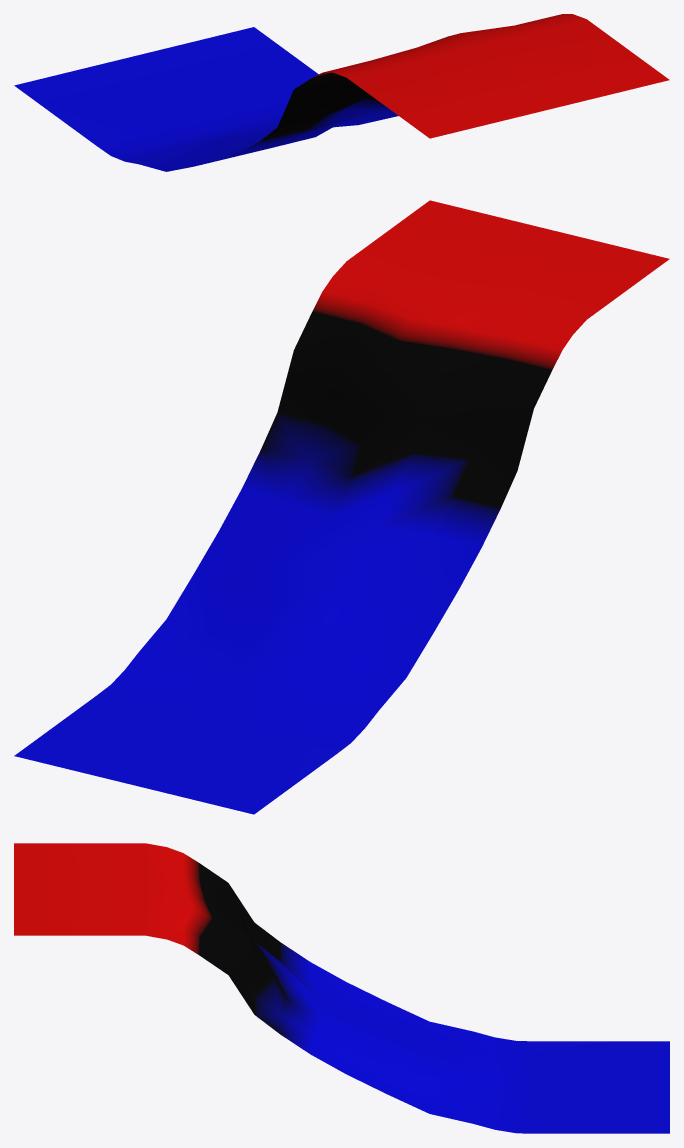
Rendered from RiverBank00B Background.fbx.
The picture shows the model from 3 angles, top to bottom: view 1: azimuth 30°, elevation 25°; view 2: azimuth 150°, elevation 25°; view 3: azimuth 270°, elevation 25°; orthographic projection. The views are drawn at different scales.
Visible parts, largest first — view 1: RiverBank00B Background; view 2: RiverBank00B Background; view 3: RiverBank00B Background.
Boxes of the visible parts, bbox=[...] form: RiverBank00B Background: bbox=[14, 14, 669, 171]; RiverBank00B Background: bbox=[14, 200, 669, 814]; RiverBank00B Background: bbox=[14, 843, 669, 1133].
Bounding box in the file's own units: 1 × 1 × 3.
